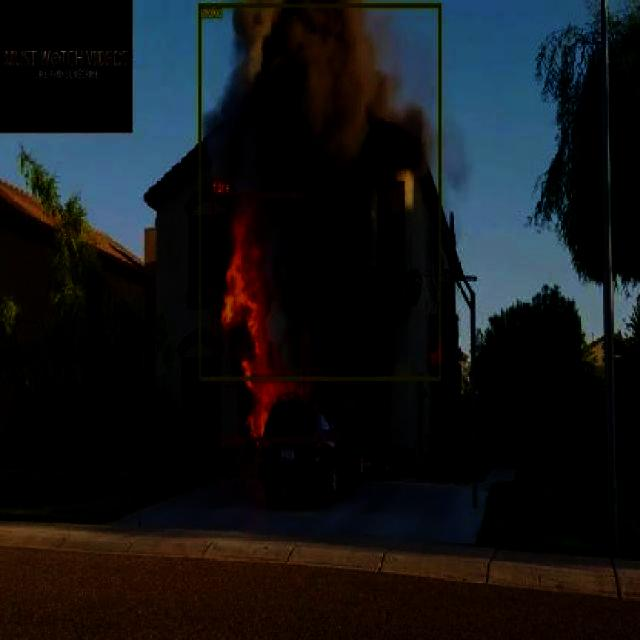fire: (210, 192, 304, 440)
smoke: (198, 2, 440, 380)
